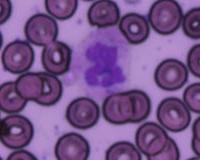N: (67, 26, 132, 100)
